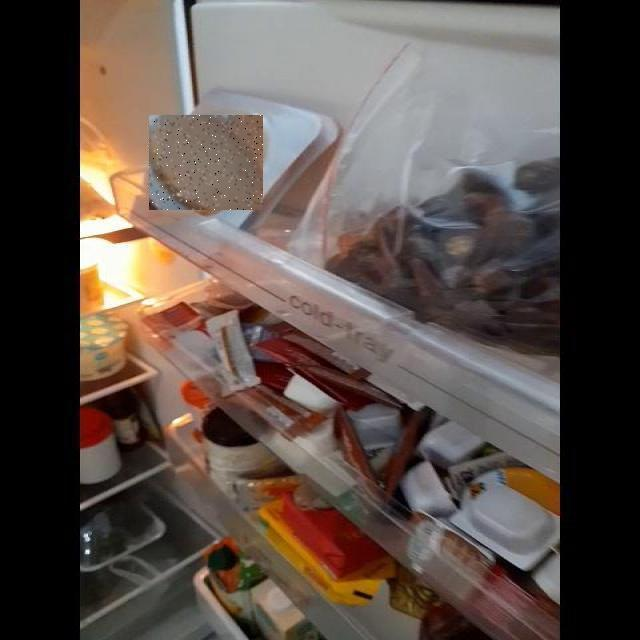Sausages: (149, 115, 263, 210)
